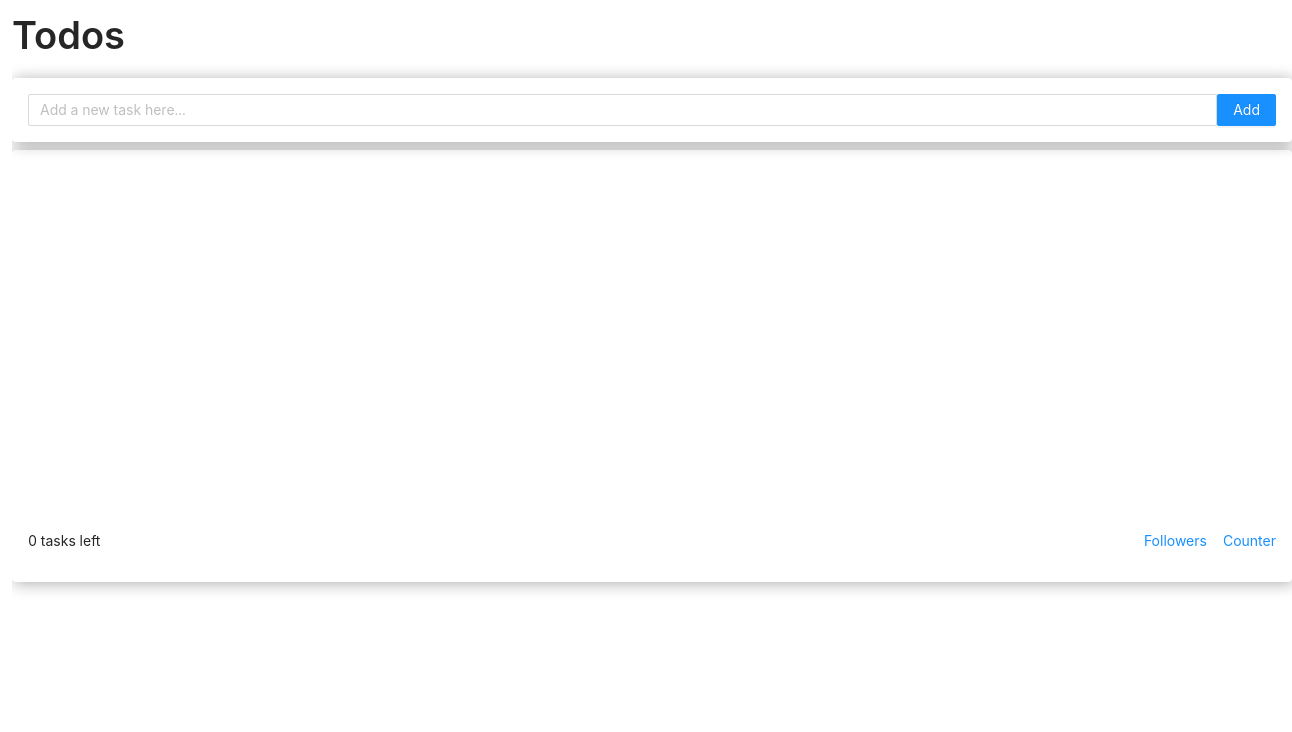
it: Todo integration test › todo list should render correct › should render same text passed into title prop
In the field with placeholder "Add a new task here...": (623, 110) [28, 94, 1217, 126], type "Go home"
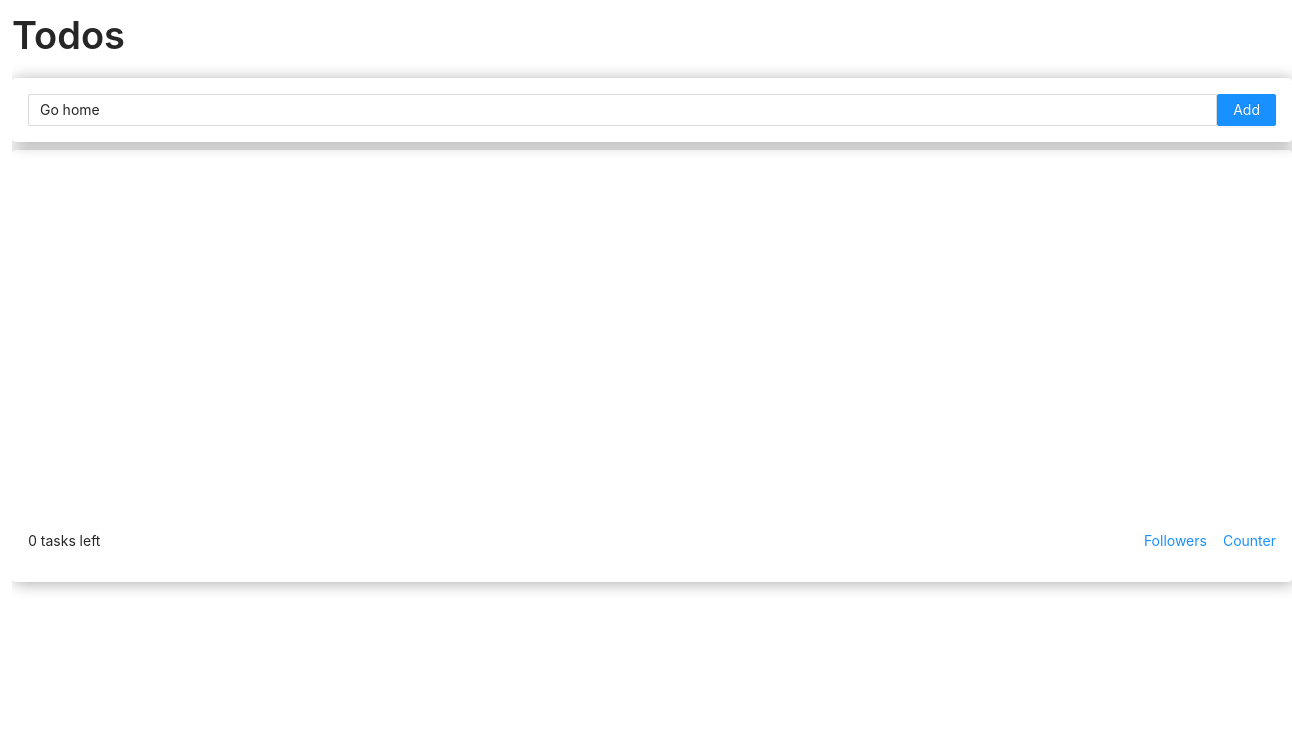
Click the button "Add": (1247, 110) [1217, 94, 1276, 126]
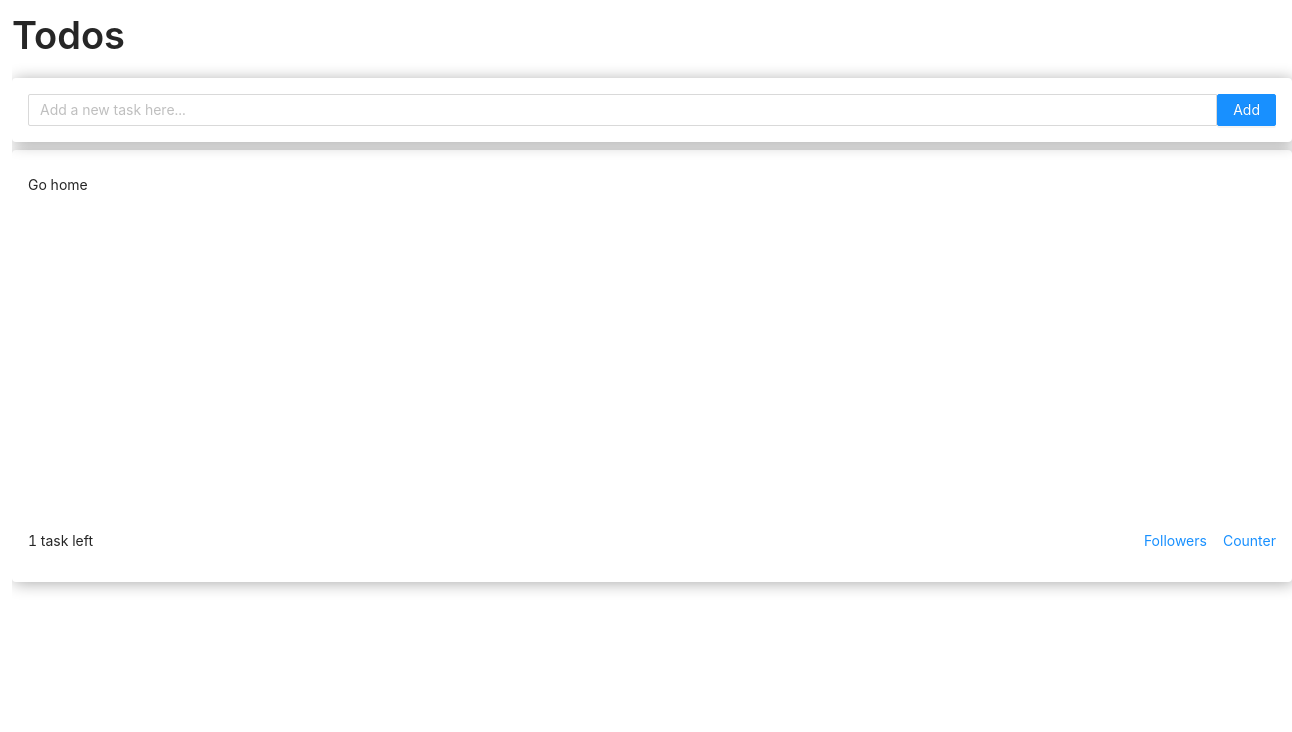
Check: the list reads "Go home", box [28, 176, 88, 193]
